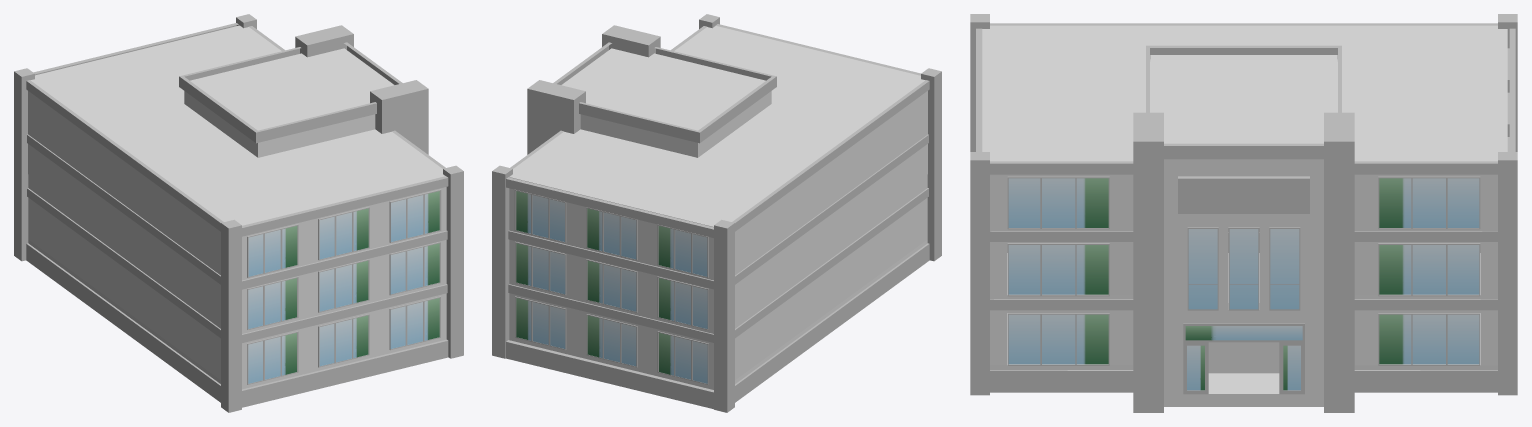
Rendered from TesttingSD.fbx.
3 views of the same model, side by side, from view 1: azimuth 30°, elevation 25°; view 2: azimuth 150°, elevation 25°; view 3: azimuth 270°, elevation 25° (orthographic). The views are drawn at different scales.
Visible parts, largest first — view 1: SDBangunan_LOD0; view 2: SDBangunan_LOD0; view 3: SDBangunan_LOD0.
Part boxes in pixels (left/top/right/bottom): SDBangunan_LOD0: left=14, top=14, right=463, bottom=412; SDBangunan_LOD0: left=492, top=14, right=941, bottom=412; SDBangunan_LOD0: left=970, top=14, right=1517, bottom=412.
Bounding box in the file's own units: 2183 × 1687 × 3078.
